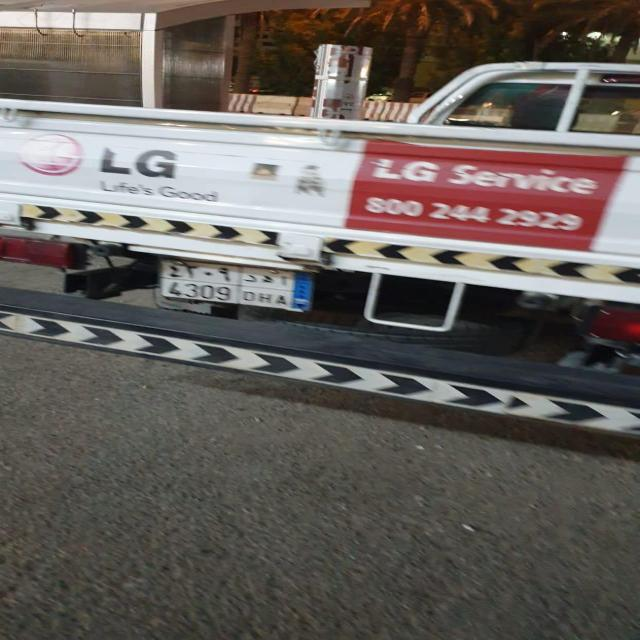license_plate: (158, 255, 315, 313)
